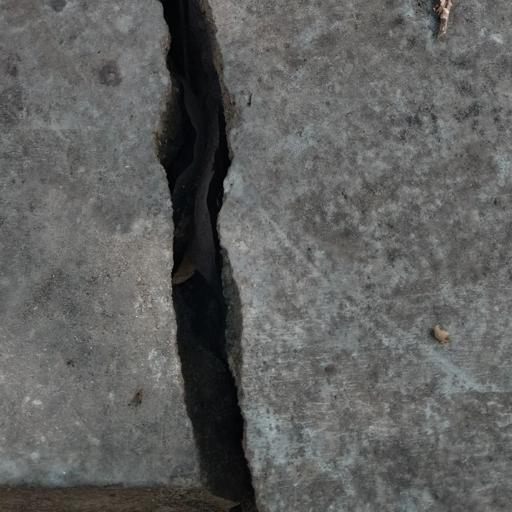major_crack: (142, 0, 269, 512)
